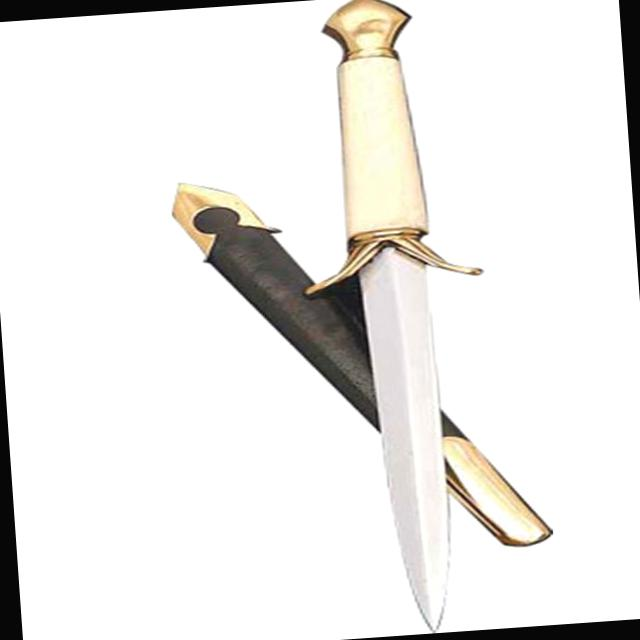knife: (339, 278, 486, 638)
